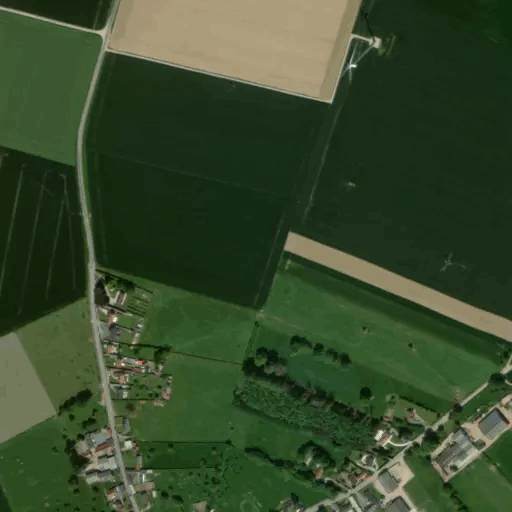wt: (342, 6, 401, 85)
